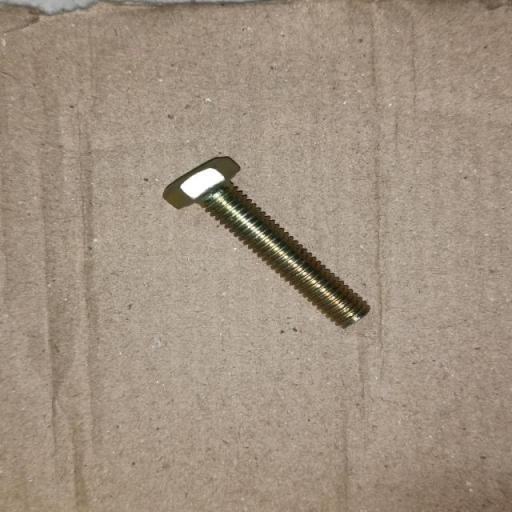Bolt: (162, 155, 371, 329)
